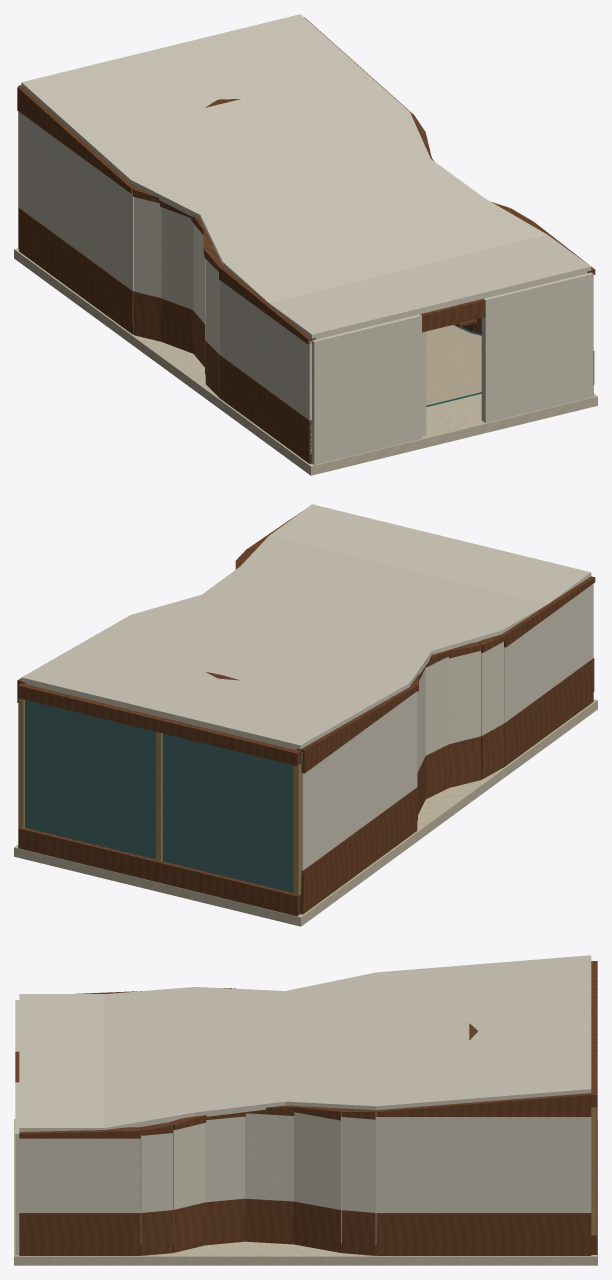
File: shell.glb
3 renders of one model, top to bottom at view 1: azimuth 30°, elevation 25°; view 2: azimuth 150°, elevation 25°; view 3: azimuth 270°, elevation 25°, orthographic.
Parts seen in each view (by area): view 1: TG_Runtime_ivory_enamel, TG_Runtime_warm_walnut, TG_Runtime_warm_stone, TG_Runtime_oatmeal_weave; view 2: TG_Runtime_ivory_enamel, TG_Runtime_TG_SourceDirectionalPrivacy_NOT_RUNTIME_ACCEPTED, TG_Runtime_warm_walnut, TG_Runtime_warm_stone, TG_Runtime_champagne_metal; view 3: TG_Runtime_ivory_enamel, TG_Runtime_warm_walnut, TG_Runtime_warm_stone, TG_Runtime_champagne_metal.
Part boxes in pixels (<box>): TG_Runtime_ivory_enamel: <box>19,14,593,464</box>; TG_Runtime_warm_walnut: <box>17,17,595,463</box>; TG_Runtime_warm_stone: <box>14,248,597,475</box>; TG_Runtime_oatmeal_weave: <box>426,325,481,405</box>; TG_Runtime_ivory_enamel: <box>21,504,593,885</box>; TG_Runtime_TG_SourceDirectionalPrivacy_NOT_RUNTIME_ACCEPTED: <box>25,700,293,892</box>; TG_Runtime_warm_walnut: <box>17,511,595,916</box>; TG_Runtime_warm_stone: <box>14,699,597,926</box>; TG_Runtime_champagne_metal: <box>18,698,300,895</box>; TG_Runtime_ivory_enamel: <box>15,955,591,1254</box>; TG_Runtime_warm_walnut: <box>15,961,597,1255</box>; TG_Runtime_warm_stone: <box>14,1119,597,1265</box>; TG_Runtime_champagne_metal: <box>591,1107,596,1235</box>.
Size of the model in its own units: 7.2 by 4.26 by 12.9.
Materials: 9 (7 with a texture image).
